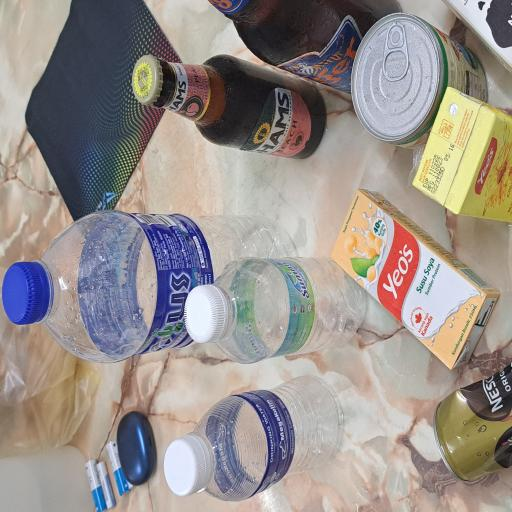battery: (12, 141, 54, 174), (0, 112, 41, 142), (2, 129, 38, 155)
can: (273, 465, 376, 512)
drink carton: (107, 440, 244, 512)
glass bottle: (265, 175, 343, 435), (312, 273, 383, 512)
plastic bottle: (112, 52, 226, 396), (8, 262, 105, 456), (110, 282, 194, 488)
plastic bottle cap: (141, 2, 188, 68), (125, 245, 172, 308), (11, 218, 59, 278)
